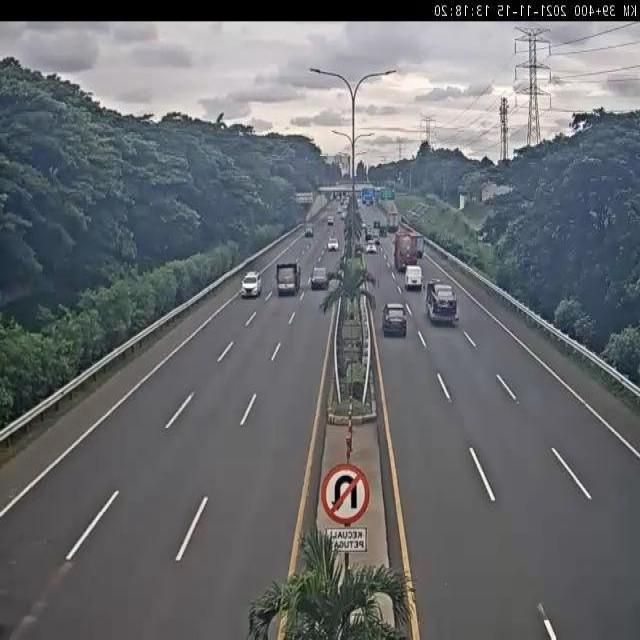Car: (427, 280, 458, 324), (383, 301, 406, 336), (240, 274, 260, 298), (311, 267, 329, 290), (328, 238, 339, 251), (305, 225, 314, 236), (327, 216, 334, 225)
Truck: (394, 232, 418, 271), (276, 262, 300, 295)
Van: (404, 265, 422, 290)
